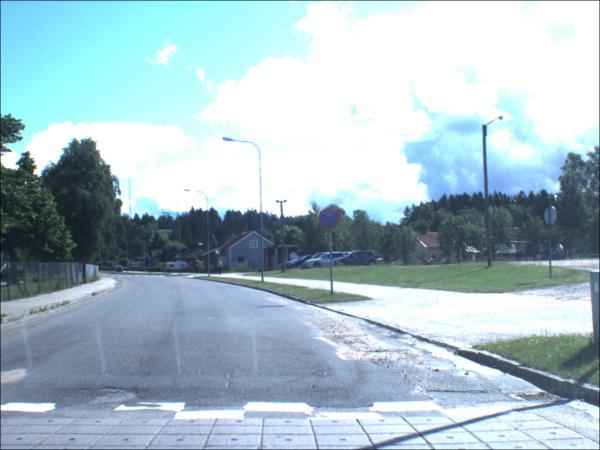NO_PARKING: (195, 256, 200, 261), (149, 257, 154, 262)
NO_STOPPING_NO_STANDING: (319, 209, 343, 231)
PEDESTRIAN_CROSSING: (177, 254, 183, 260)
